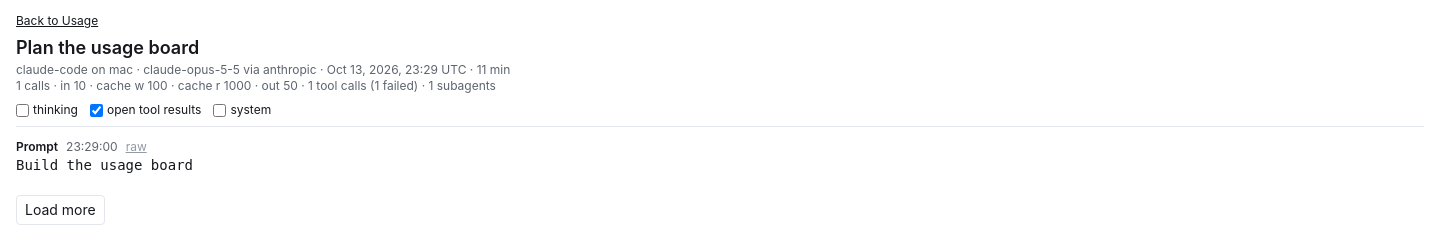
UsageSession › loads the next page of a long session
The width and height of the screenshot is (1440, 242).
Click the button "Load more" at (60, 210), box x1=16 y1=195 x2=105 y2=225
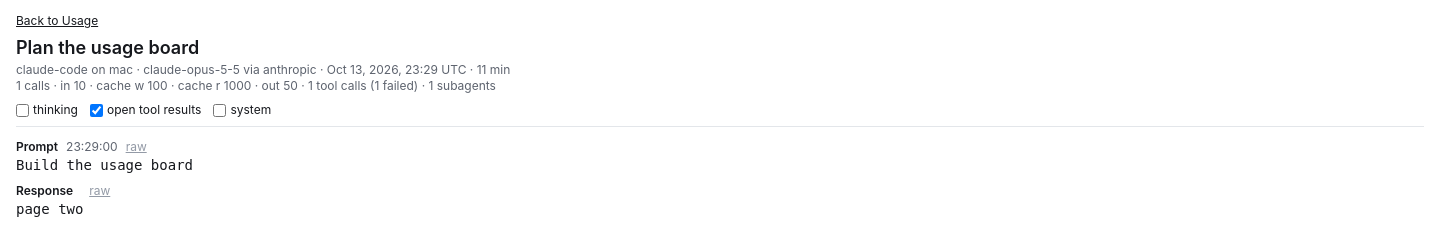
Check: the text "page two" is shown, box x1=16 y1=201 x2=83 y2=217
